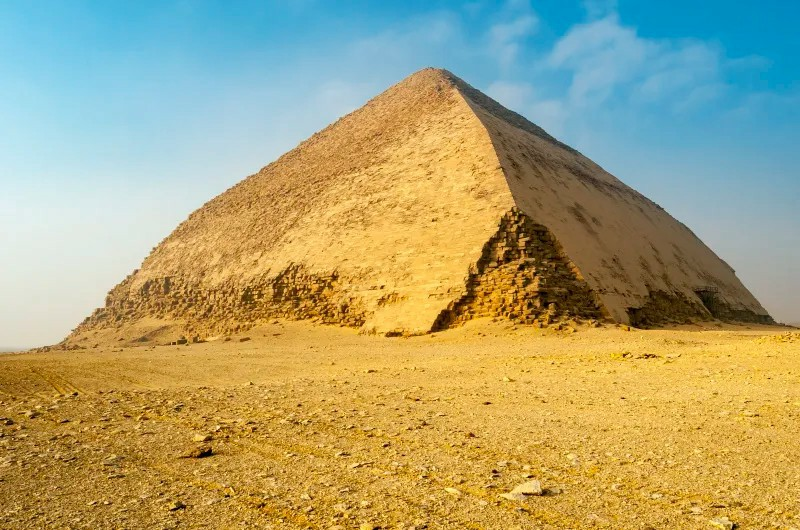Pyramid: (57, 69, 776, 326)
